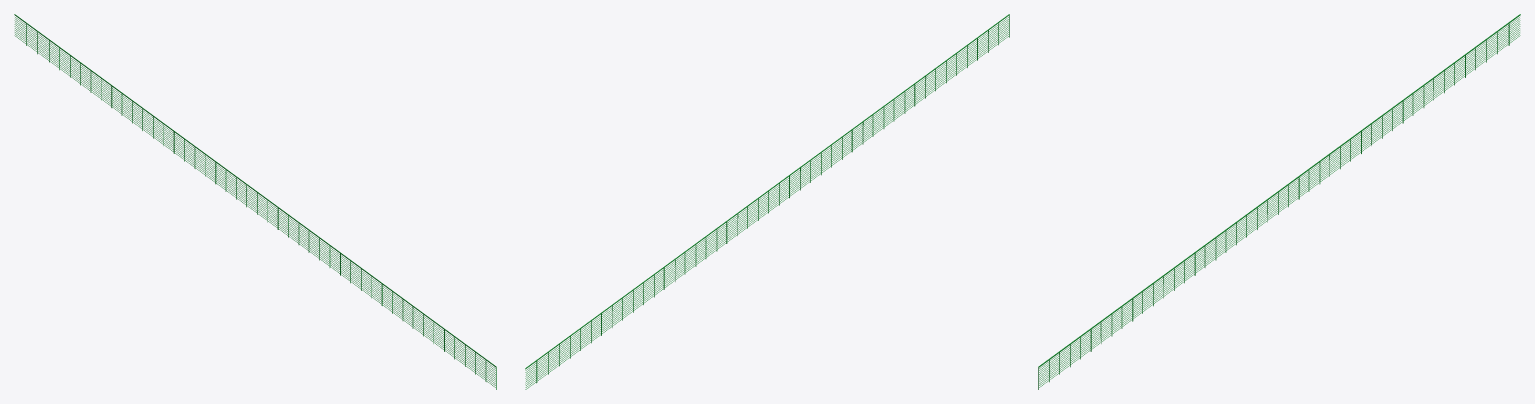
File: FenceFloor04.fbx
3 renders of one model, left to right at view 1: azimuth 30°, elevation 25°; view 2: azimuth 150°, elevation 25°; view 3: azimuth 330°, elevation 25°, orthographic.
Parts seen in each view (by area): view 1: FenceFloor04; view 2: FenceFloor04; view 3: FenceFloor04.
Part boxes in pixels (<box>): FenceFloor04: <box>14,14,496,389</box>; FenceFloor04: <box>525,14,1009,389</box>; FenceFloor04: <box>1038,14,1520,389</box>.
Bounding box in the file's own units: 4.66 × 124 × 4633.
